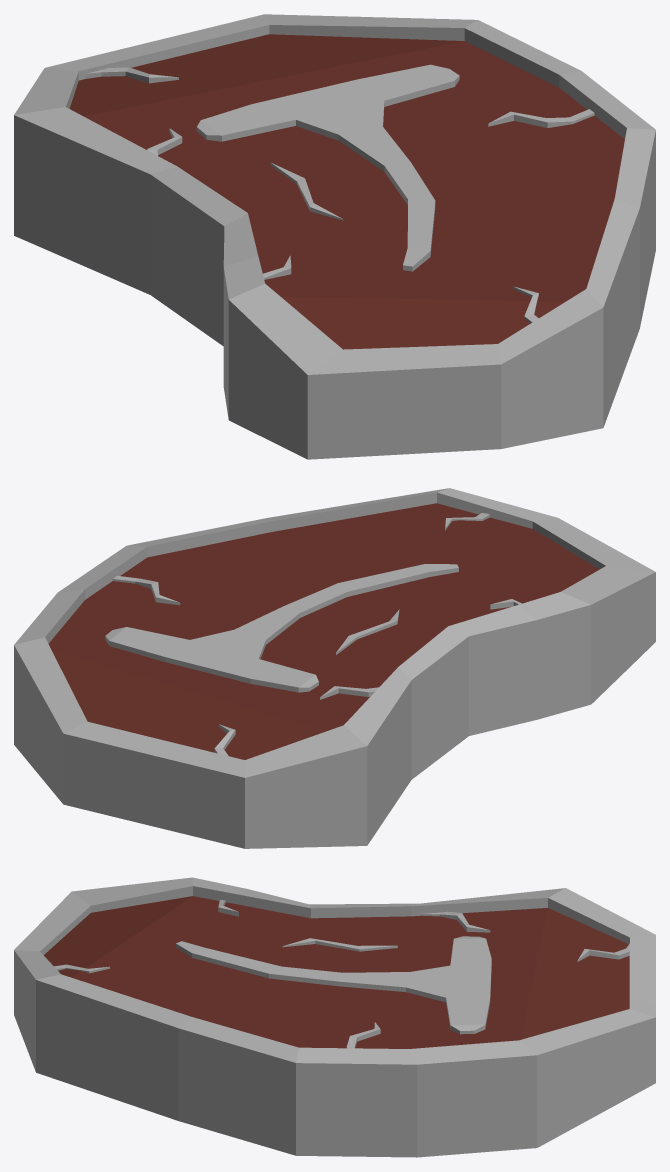
The model's file is Steak.glb.
The picture shows the model from 3 angles, top to bottom: view 1: azimuth 30°, elevation 25°; view 2: azimuth 150°, elevation 25°; view 3: azimuth 270°, elevation 25°; orthographic projection. The views are drawn at different scales.
Parts seen in each view (by area): view 1: Steak; view 2: Steak; view 3: Steak.
Boxes of the visible parts, x1=… form: Steak: x1=14, y1=14, x2=655, y2=459; Steak: x1=14, y1=488, x2=655, y2=848; Steak: x1=14, y1=877, x2=655, y2=1157.
Size of the model in its own units: 1.32 by 0.3396 by 1.91.
